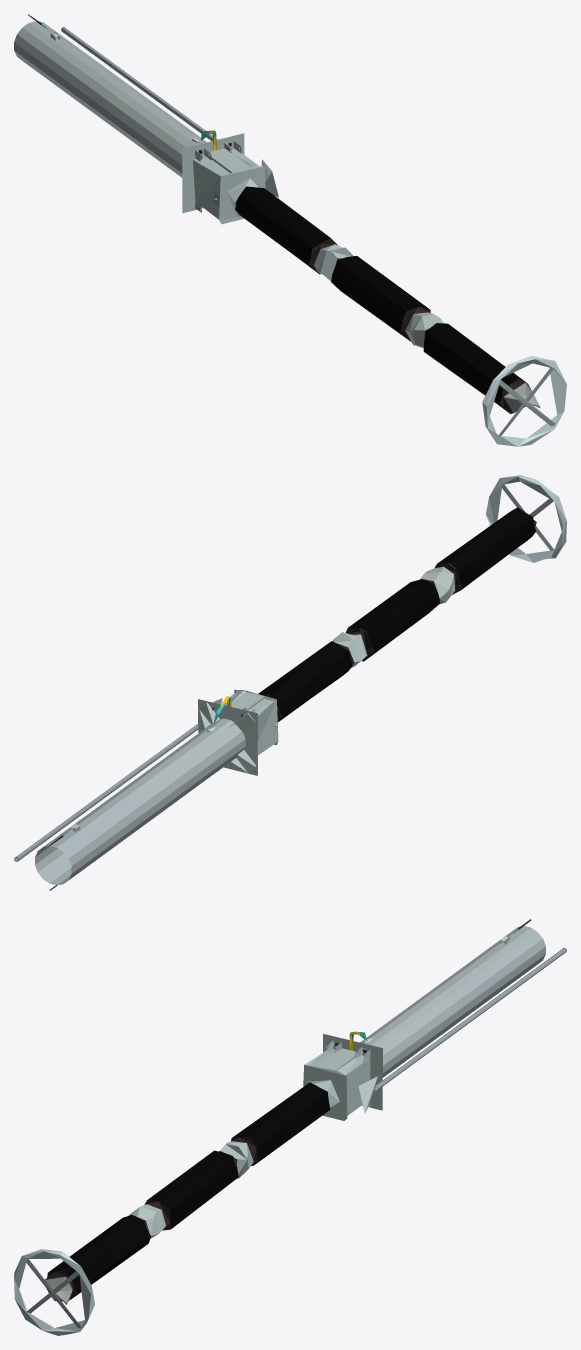
Rendered from pt-11m00000000637493-geode.glb.
3 renders of one model, top to bottom at view 1: azimuth 30°, elevation 25°; view 2: azimuth 150°, elevation 25°; view 3: azimuth 330°, elevation 25°, orthographic. The views are drawn at different scales.
Parts seen in each view (by area): view 1: Node; view 2: Node; view 3: Node.
Part boxes in pixels (box(x1,y1,x2,y2)): Node: box(14, 14, 566, 446); Node: box(14, 475, 566, 890); Node: box(14, 919, 566, 1335).
Bounding box in the file's own units: 0.8649 × 0.8649 × 8.99.
Materials: 1 (1 with a texture image).
